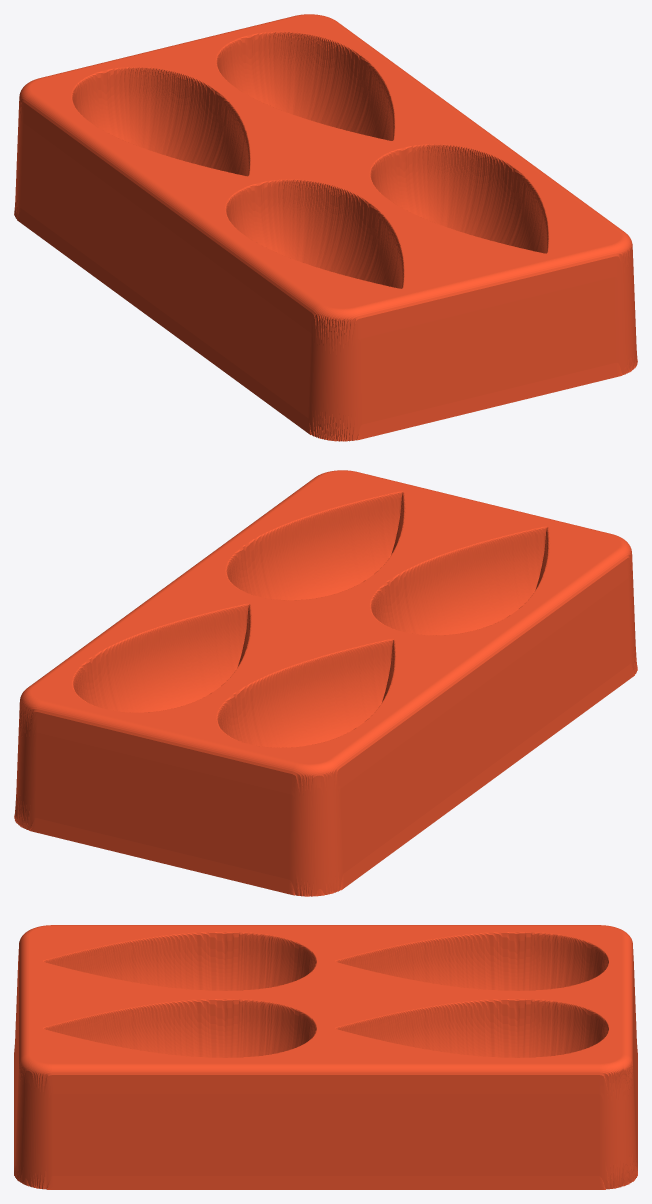
The model's file is mold.glb.
3 renders of one model, top to bottom at view 1: azimuth 30°, elevation 25°; view 2: azimuth 150°, elevation 25°; view 3: azimuth 270°, elevation 25°, orthographic. The views are drawn at different scales.
Parts seen in each view (by area): view 1: geometry_0; view 2: geometry_0; view 3: geometry_0.
Part boxes in pixels (<box>): geometry_0: <box>14,14,637,441</box>; geometry_0: <box>14,470,637,896</box>; geometry_0: <box>14,925,637,1189</box>.
Bounding box in the file's own units: 0.0838 × 0.031 × 0.1466.
